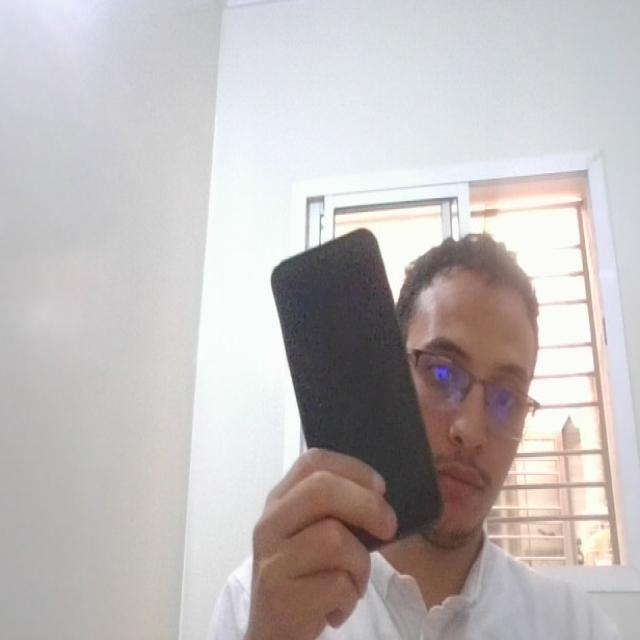phone: (264, 222, 450, 564)
